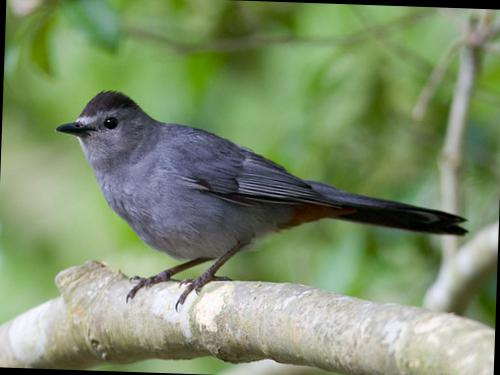bird: (41, 76, 487, 328)
